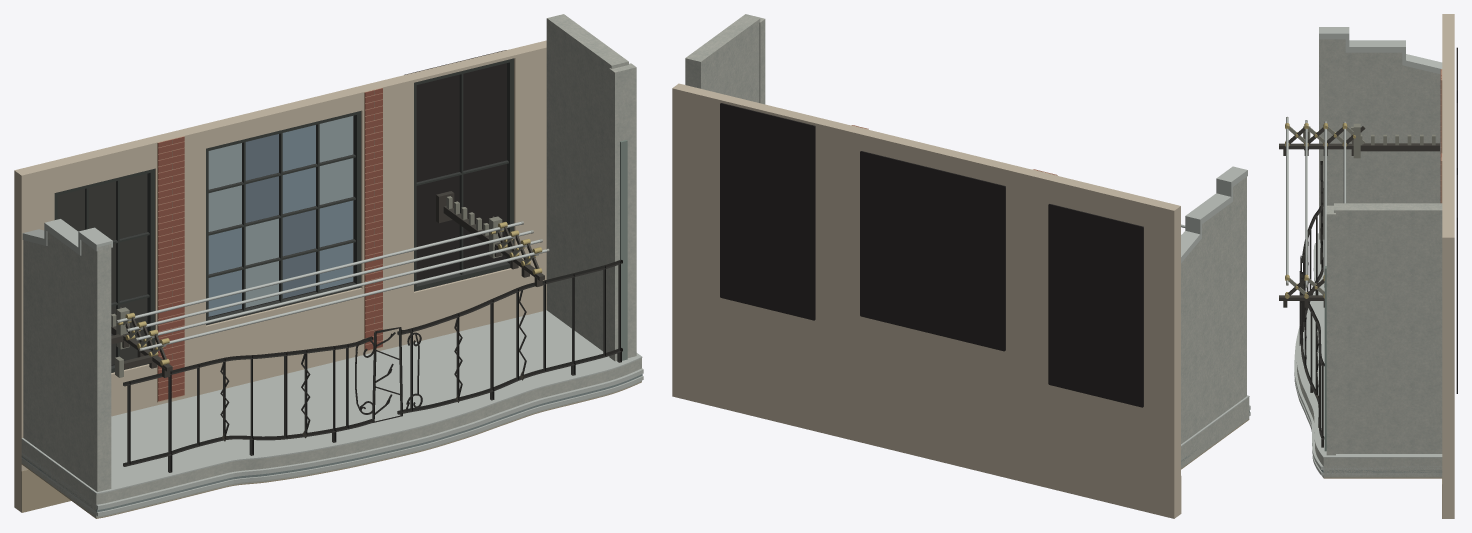
Rendered from changning-taoyuanfang-curved-balcony-raw.glb.
The picture shows the model from 3 angles, left to right: view 1: azimuth 30°, elevation 25°; view 2: azimuth 150°, elevation 25°; view 3: azimuth 270°, elevation 25°; orthographic projection. The views are drawn at different scales.
Parts seen in each view (by area): view 1: 桃源坊端部阳台的折弧线脚、卷草铁栏与四杆晾衣架; view 2: 桃源坊端部阳台的折弧线脚、卷草铁栏与四杆晾衣架; view 3: 桃源坊端部阳台的折弧线脚、卷草铁栏与四杆晾衣架.
Boxes of the visible parts, x1,y1,x2,y2 form: 桃源坊端部阳台的折弧线脚、卷草铁栏与四杆晾衣架: [14, 14, 643, 518]; 桃源坊端部阳台的折弧线脚、卷草铁栏与四杆晾衣架: [672, 14, 1250, 518]; 桃源坊端部阳台的折弧线脚、卷草铁栏与四杆晾衣架: [1279, 14, 1457, 518].
Size of the model in its own units: 6.07 by 3.87 by 2.05.
Materials: 24 (1 with a texture image).
